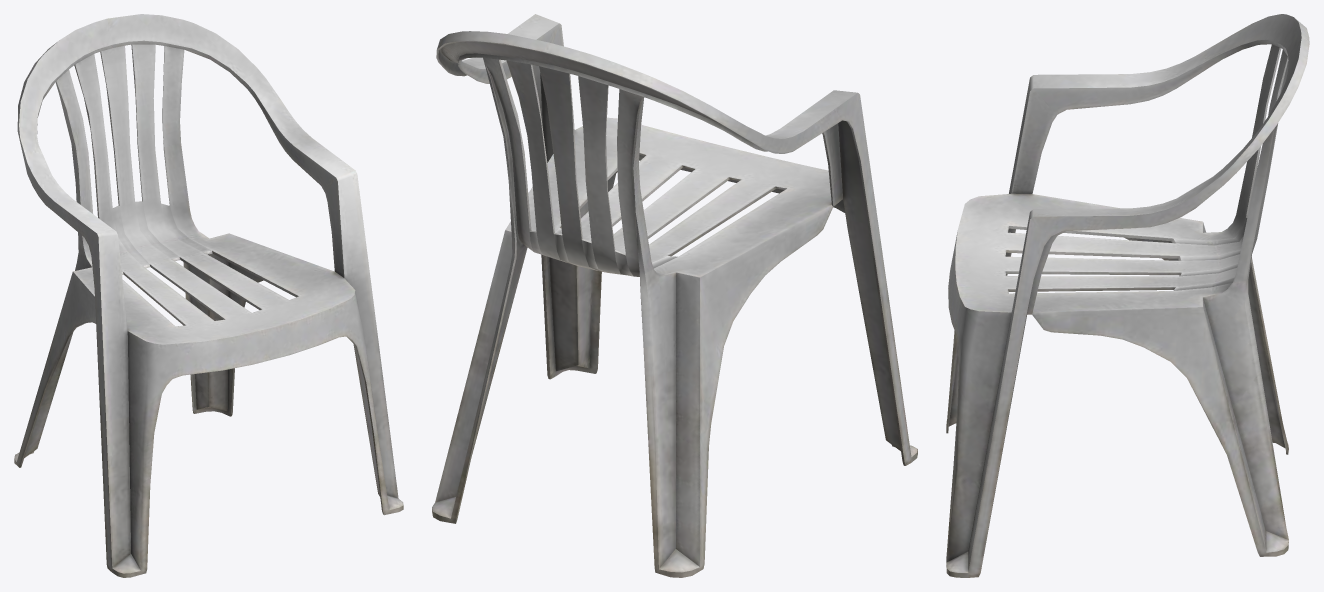
The model's file is monobloc_chair.glb.
The picture shows the model from 3 angles, left to right: view 1: azimuth 30°, elevation 25°; view 2: azimuth 150°, elevation 25°; view 3: azimuth 270°, elevation 25°; orthographic projection. The views are drawn at different scales.
Parts seen in each view (by area): view 1: plastic_monobloc_chair_01; view 2: plastic_monobloc_chair_01; view 3: plastic_monobloc_chair_01.
Boxes of the visible parts, box(x1,y1,x2,y2) form: plastic_monobloc_chair_01: box(14, 14, 403, 577); plastic_monobloc_chair_01: box(432, 14, 917, 577); plastic_monobloc_chair_01: box(946, 14, 1309, 577).
Bounding box in the file's own units: 0.6419 × 0.8798 × 0.6276.
Materials: 1 (1 with a texture image).
